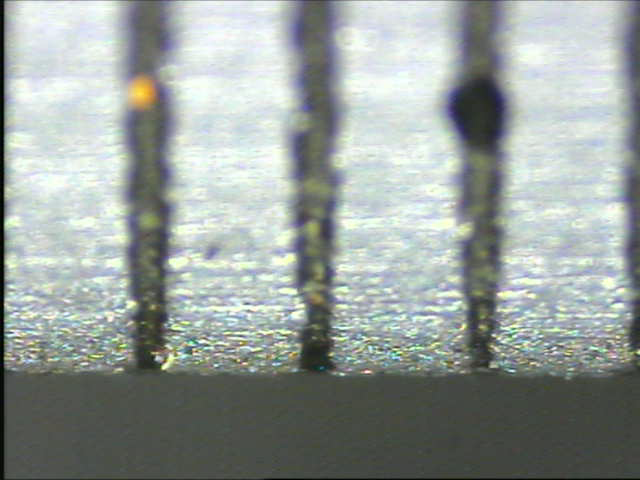line: (282, 1, 350, 373), (451, 1, 515, 374), (118, 1, 178, 370)
